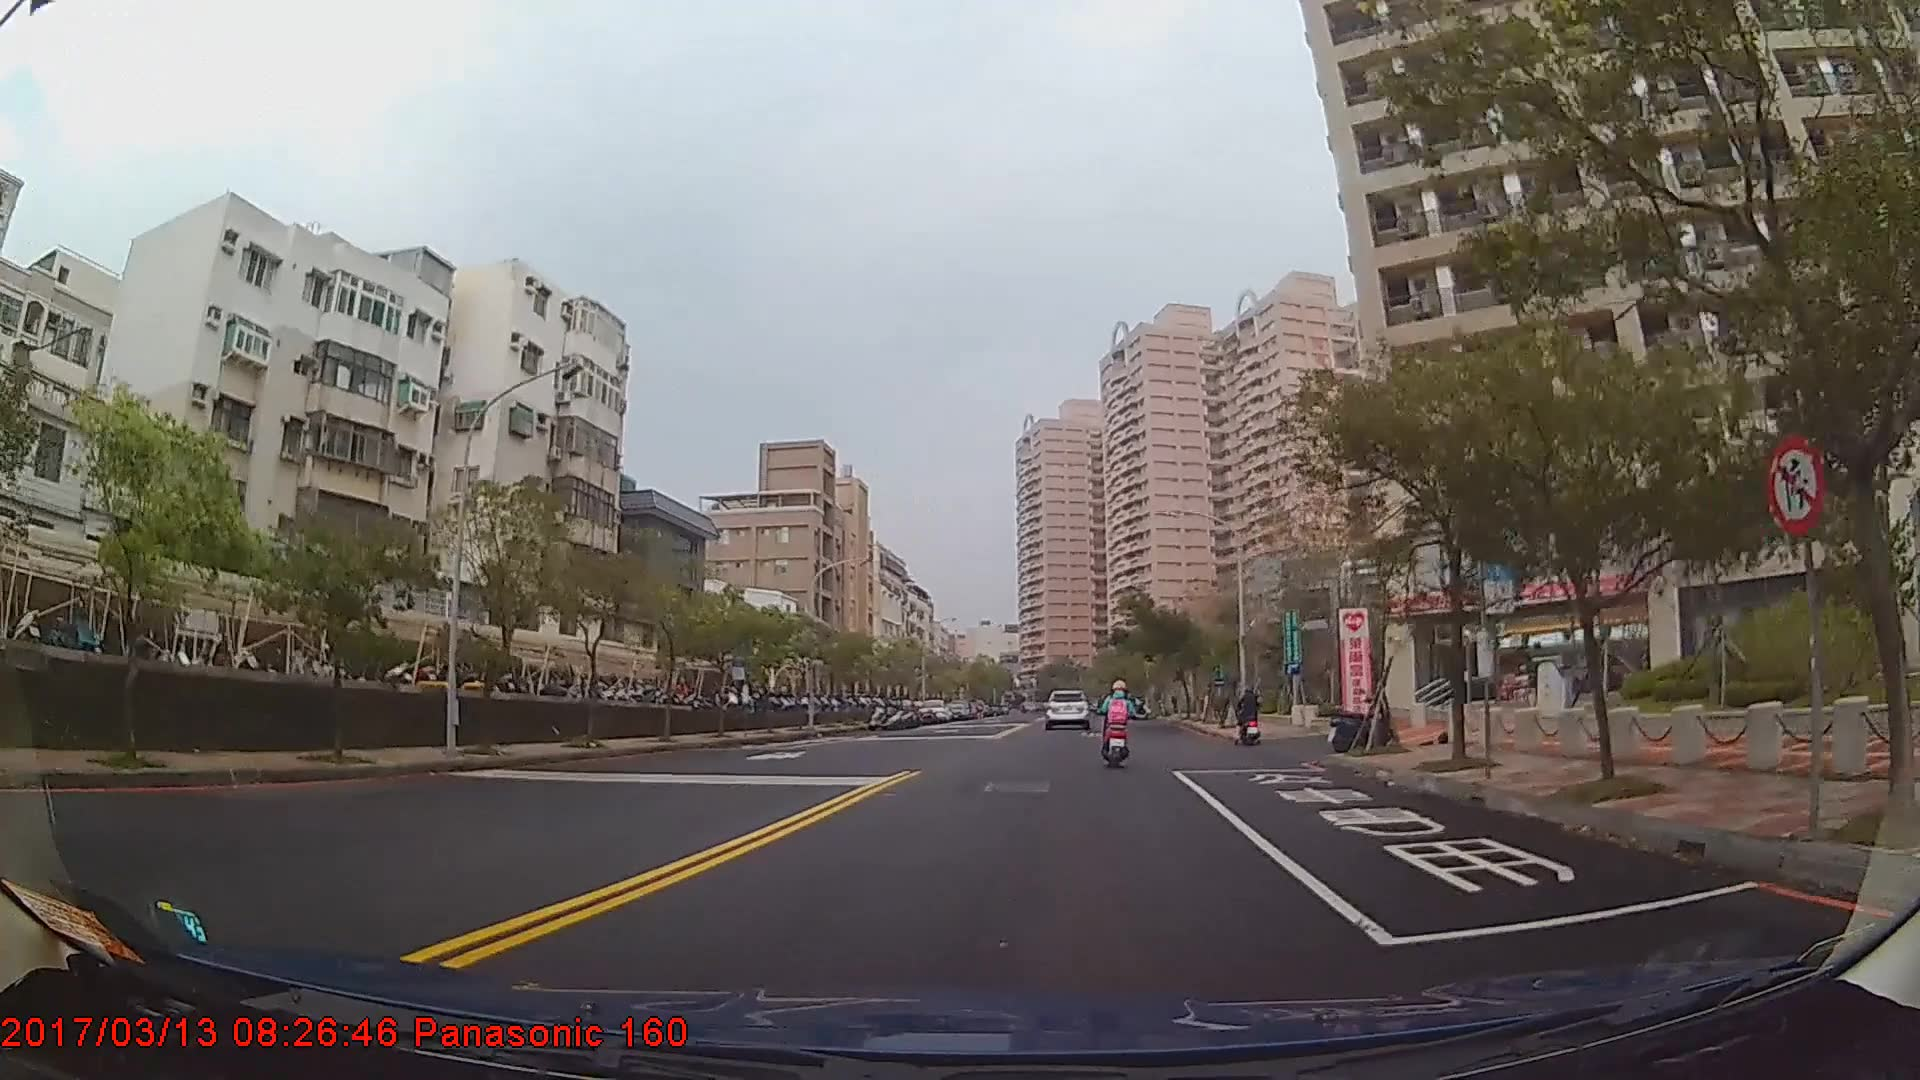rider: (1098, 679, 1140, 762), (1235, 687, 1261, 748)
vehicle: (1041, 687, 1091, 731), (915, 697, 950, 723)
